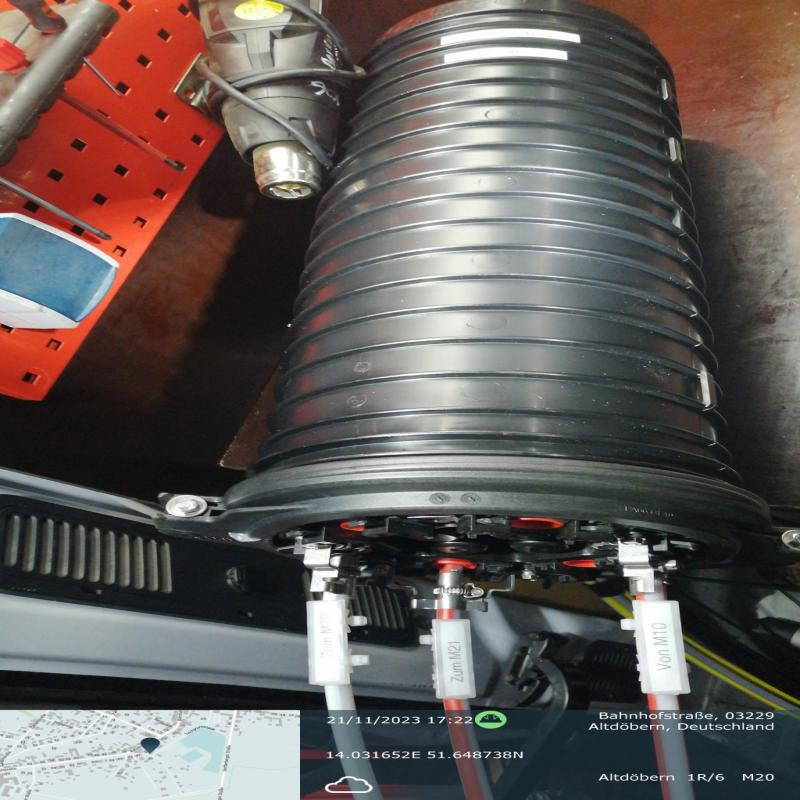NT-Muffen: (126, 0, 767, 616)
